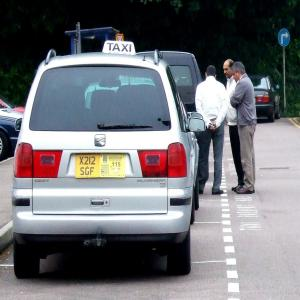Vehicle-registration-plate: (77, 154, 127, 178)
